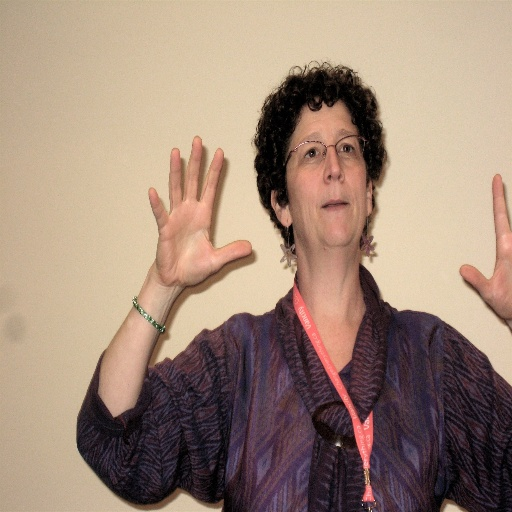hand: (147, 135, 251, 288), (459, 172, 511, 320)
